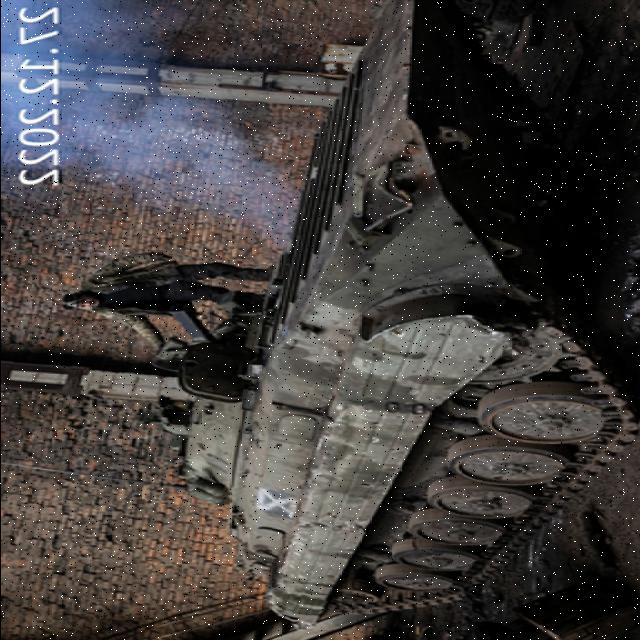APC-IFV: (137, 0, 634, 626)
